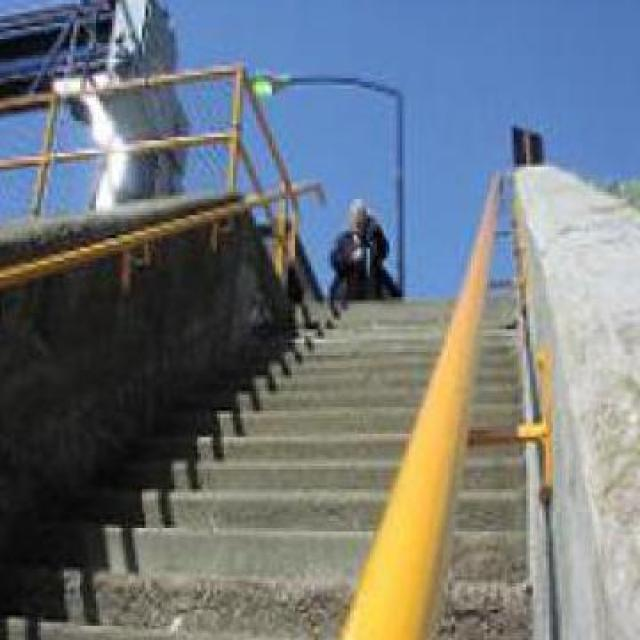Stairs: (7, 196, 548, 620)
